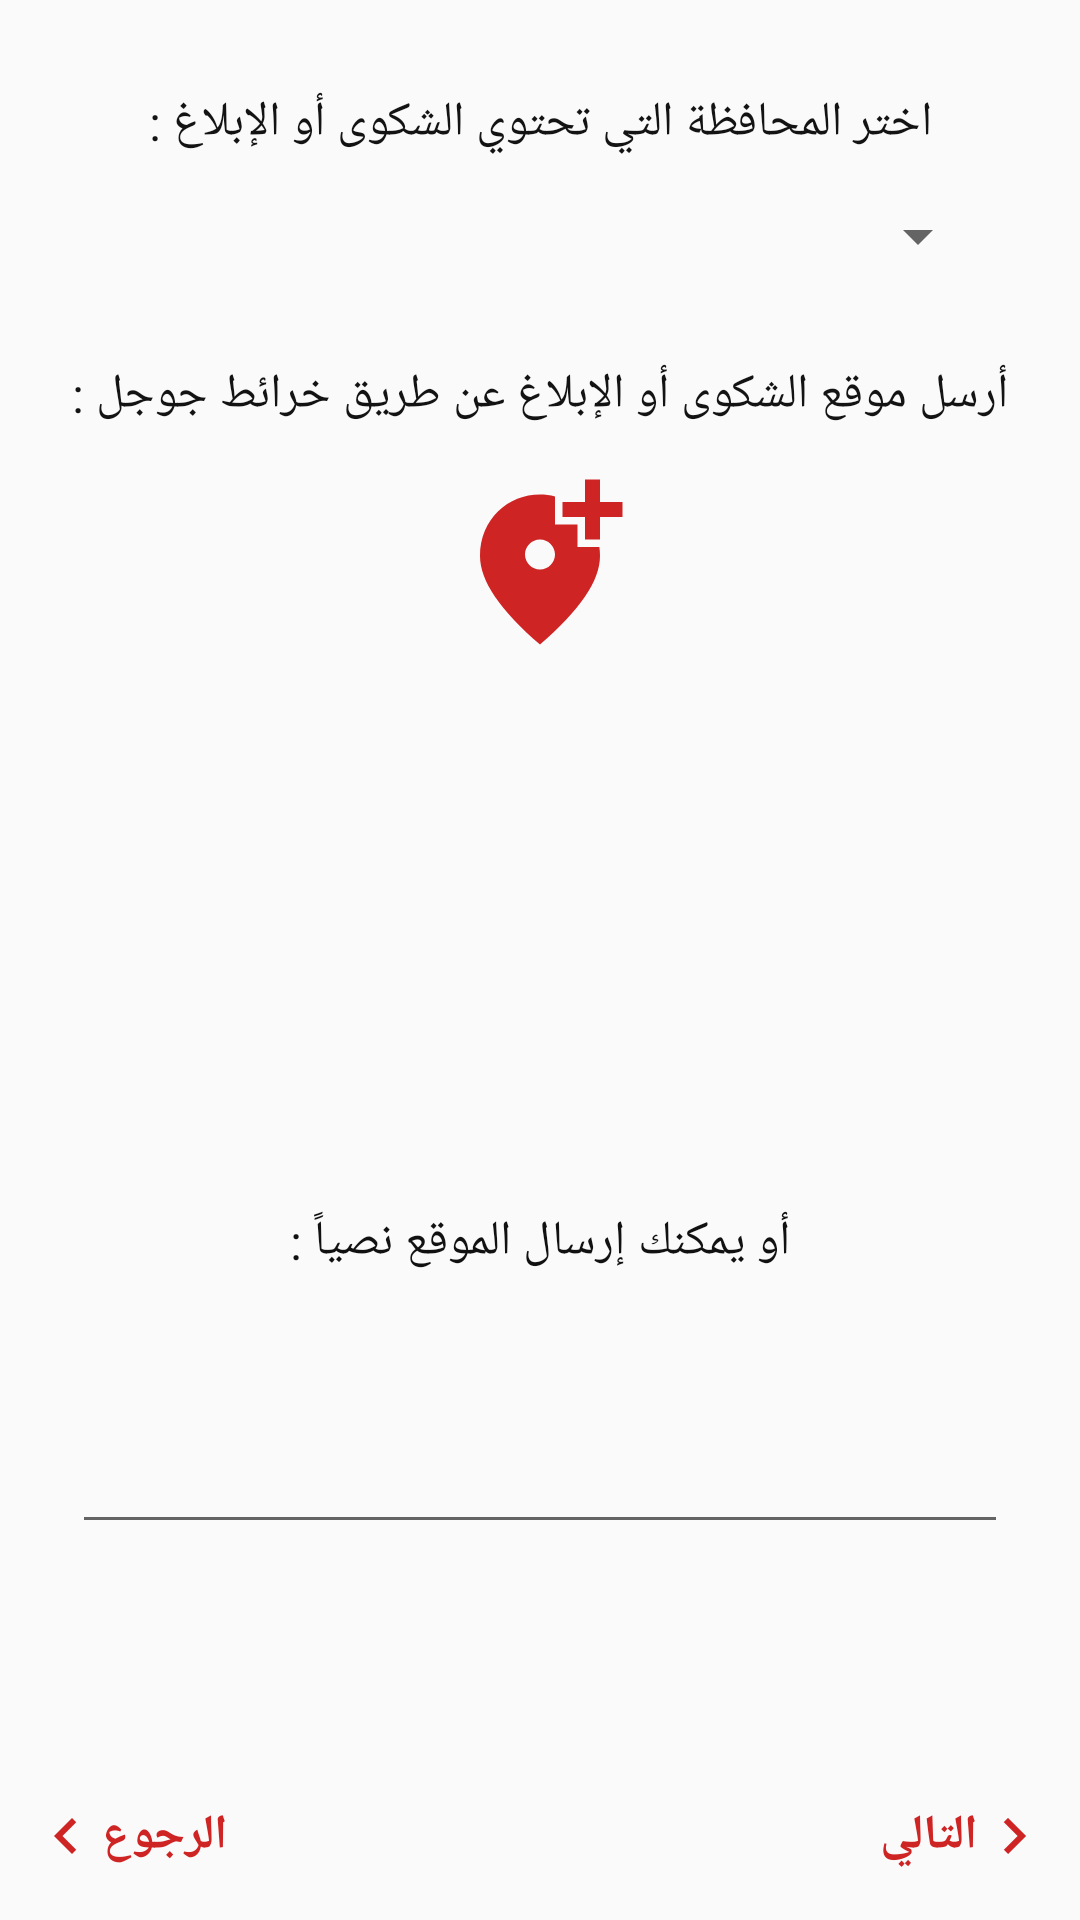

Screen size 1080w x 1920h. Icon name, then its box in pixels as bbox=[x1, y1, x2, y2]:
add location: bbox=[480, 479, 623, 645]
left: bbox=[54, 1818, 76, 1854]
next: bbox=[1004, 1818, 1026, 1854]
